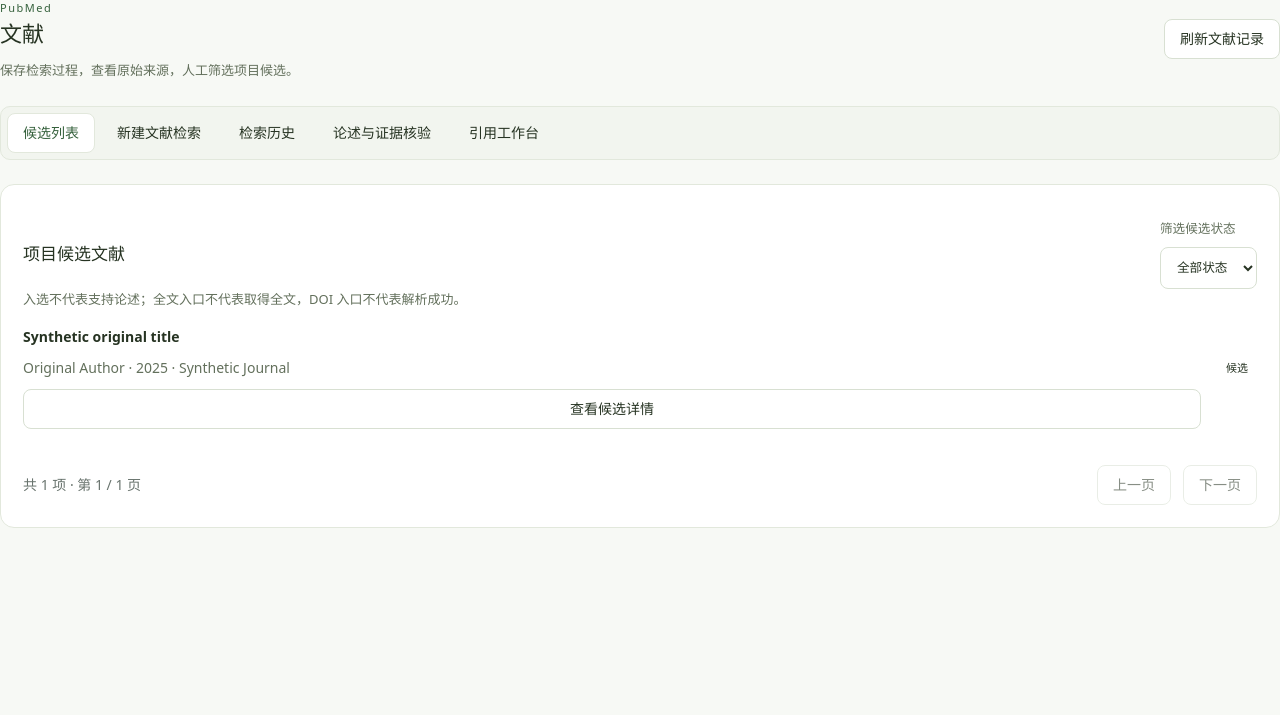
opens independent checks and history from literature without fetching a paged check list
Click the button "查看候选详情".
click(612, 409)  # box x1=23 y1=389 x2=1201 y2=429
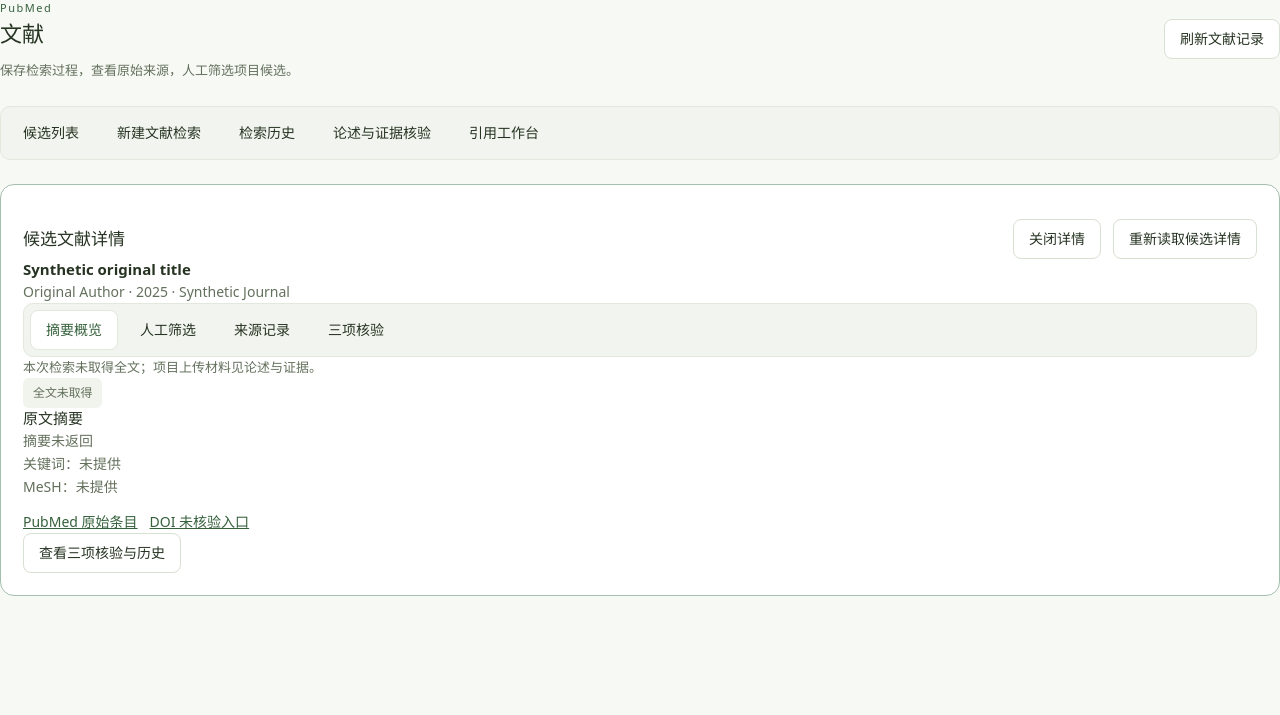
Click the button "查看三项核验与历史".
click(102, 553)  # box x1=23 y1=533 x2=181 y2=573
(page scrolled)
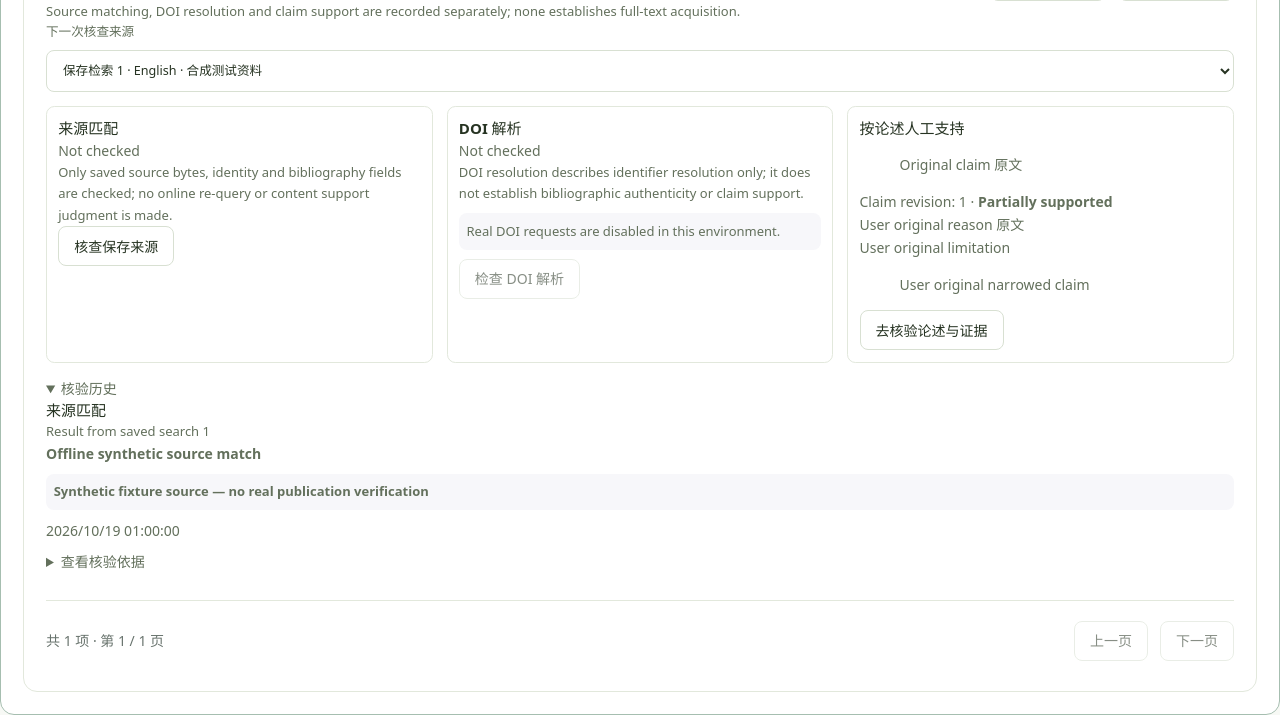
Expected: the heading "DOI 解析" is shown, x1=459 y1=118 x2=522 y2=138
Expected: the heading "按论述人工支持" is shown, x1=860 y1=118 x2=964 y2=138
Expected: the text "Original claim 原文" is shown, x1=900 y1=155 x2=1022 y2=174
